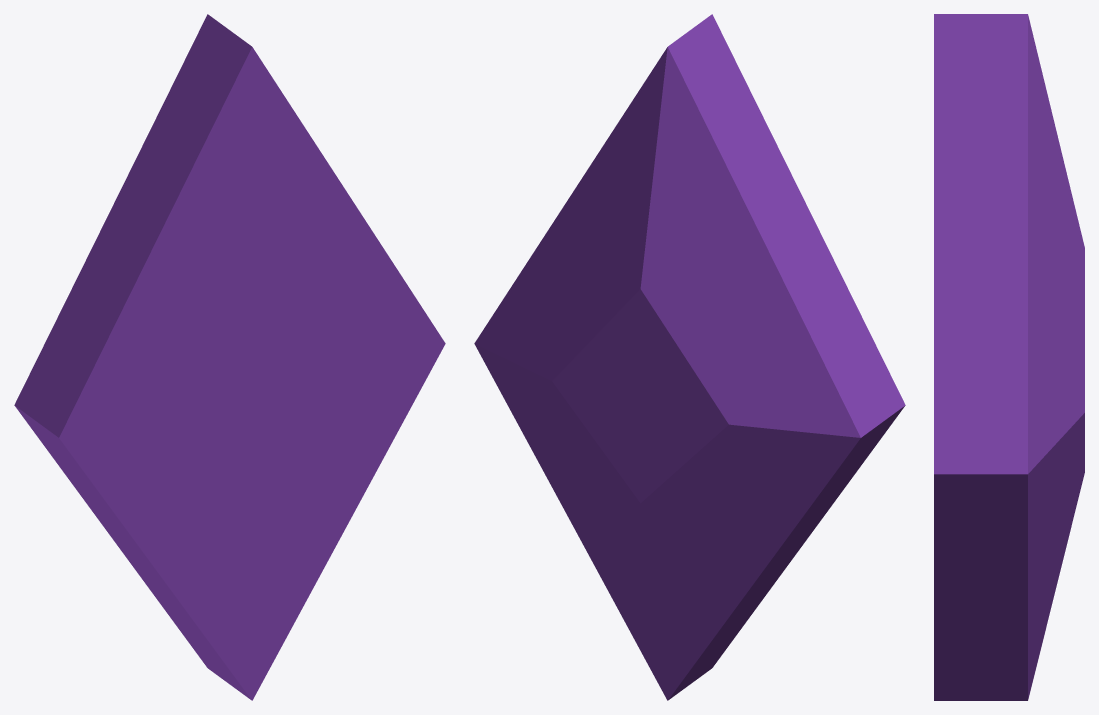
Rendered from Polygon.glb.
The picture shows the model from 3 angles, left to right: view 1: azimuth 30°, elevation 25°; view 2: azimuth 150°, elevation 25°; view 3: azimuth 270°, elevation 25°; orthographic projection. The views are drawn at different scales.
Parts seen in each view (by area): view 1: Generosity_Generosity_0; view 2: Generosity_Generosity_0; view 3: Generosity_Generosity_0.
Part boxes in pixels (x1,y1,x2,y2): Generosity_Generosity_0: (14, 14, 445, 700); Generosity_Generosity_0: (474, 14, 905, 700); Generosity_Generosity_0: (934, 14, 1084, 700).
Size of the model in its own units: 1.63 by 2.63 by 0.5234.
1 material, 1 textured.
